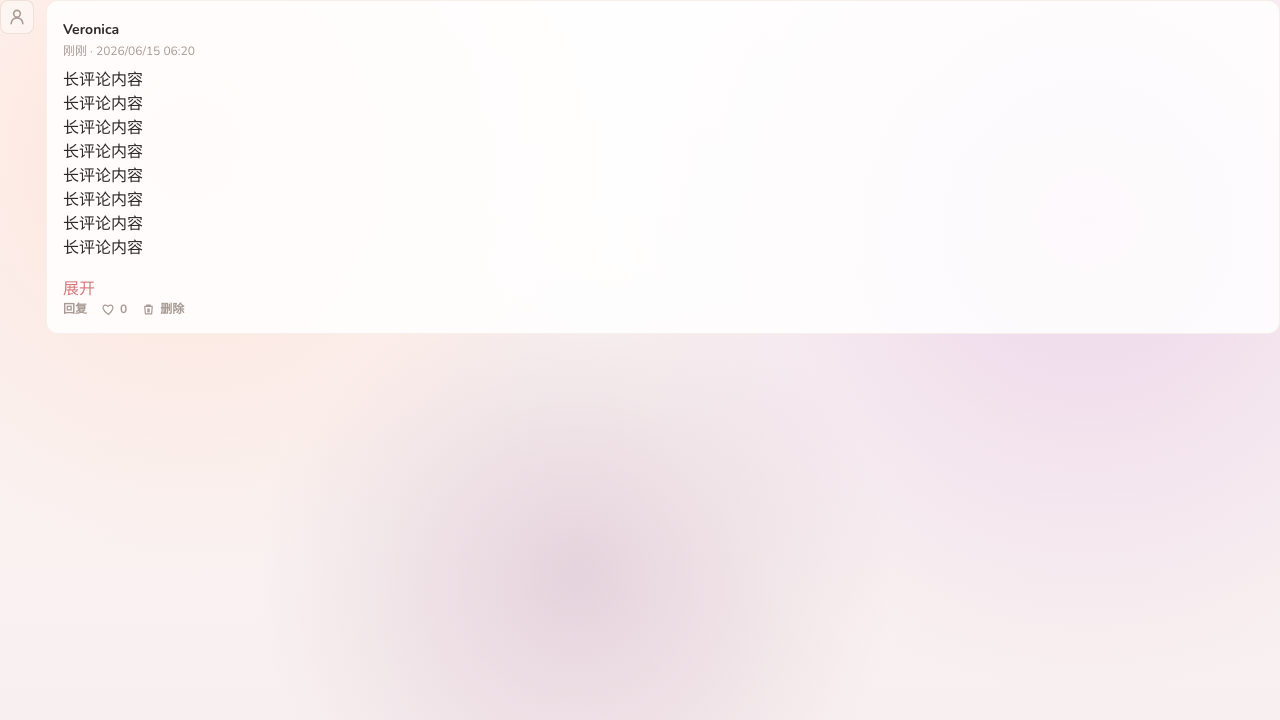
content whitespace rendering › expands and collapses long comments only when needed
The width and height of the screenshot is (1280, 720).
Click the button "展开". click: (79, 289)
box: [63,277,95,301]
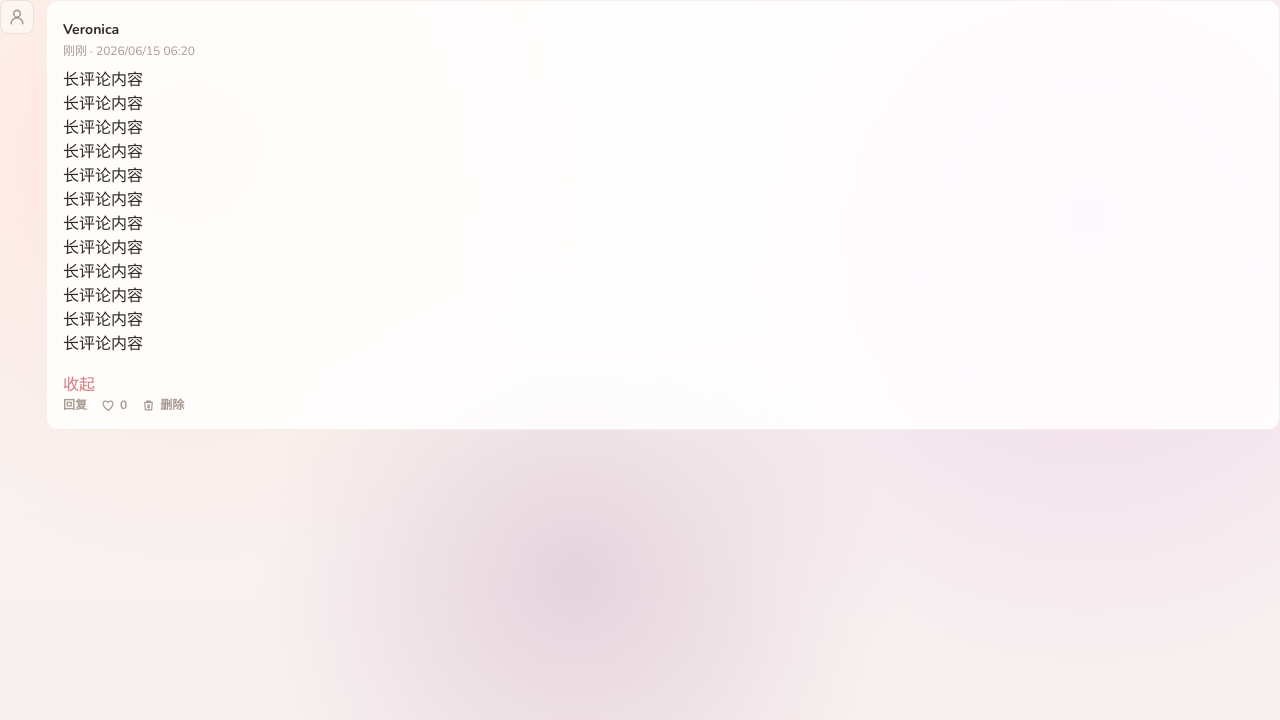
Result: the button "收起" is shown at [63,373,95,397]
